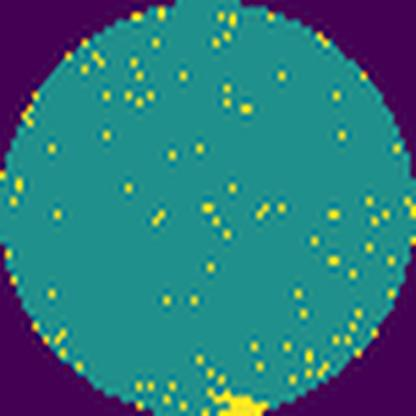Edge-Loc: (202, 375, 274, 416)
